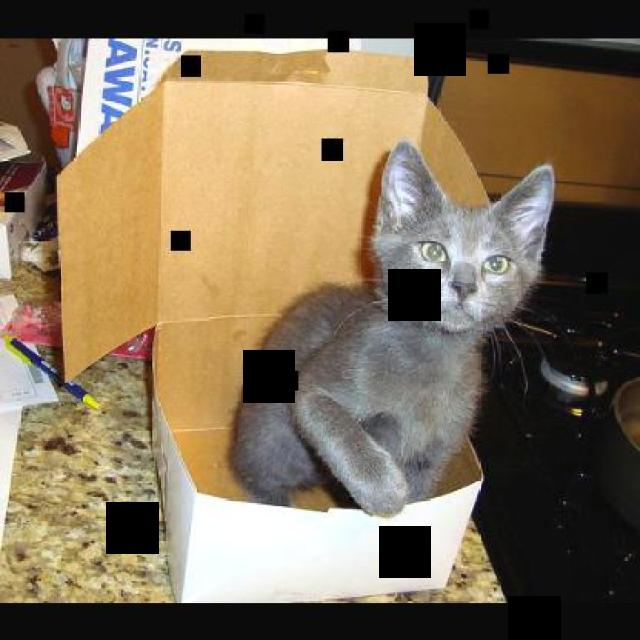unauthorized: (228, 138, 555, 518)
